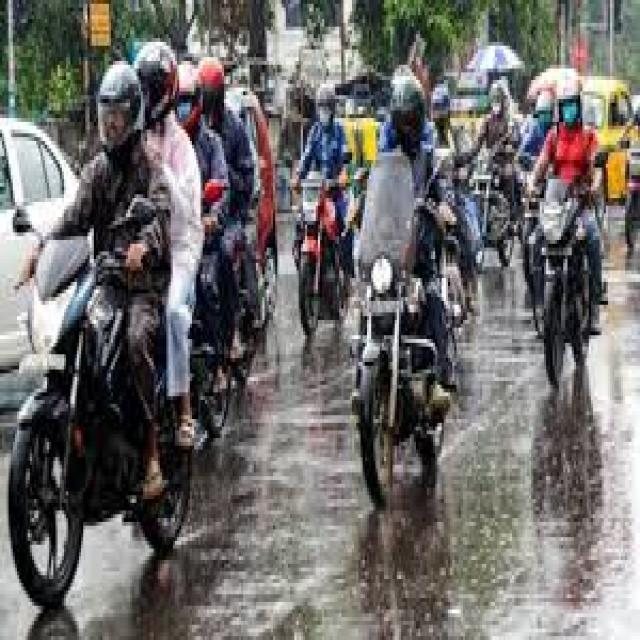Vehicles: (18, 236, 212, 615), (338, 230, 486, 485), (522, 194, 608, 386), (302, 169, 359, 337)
